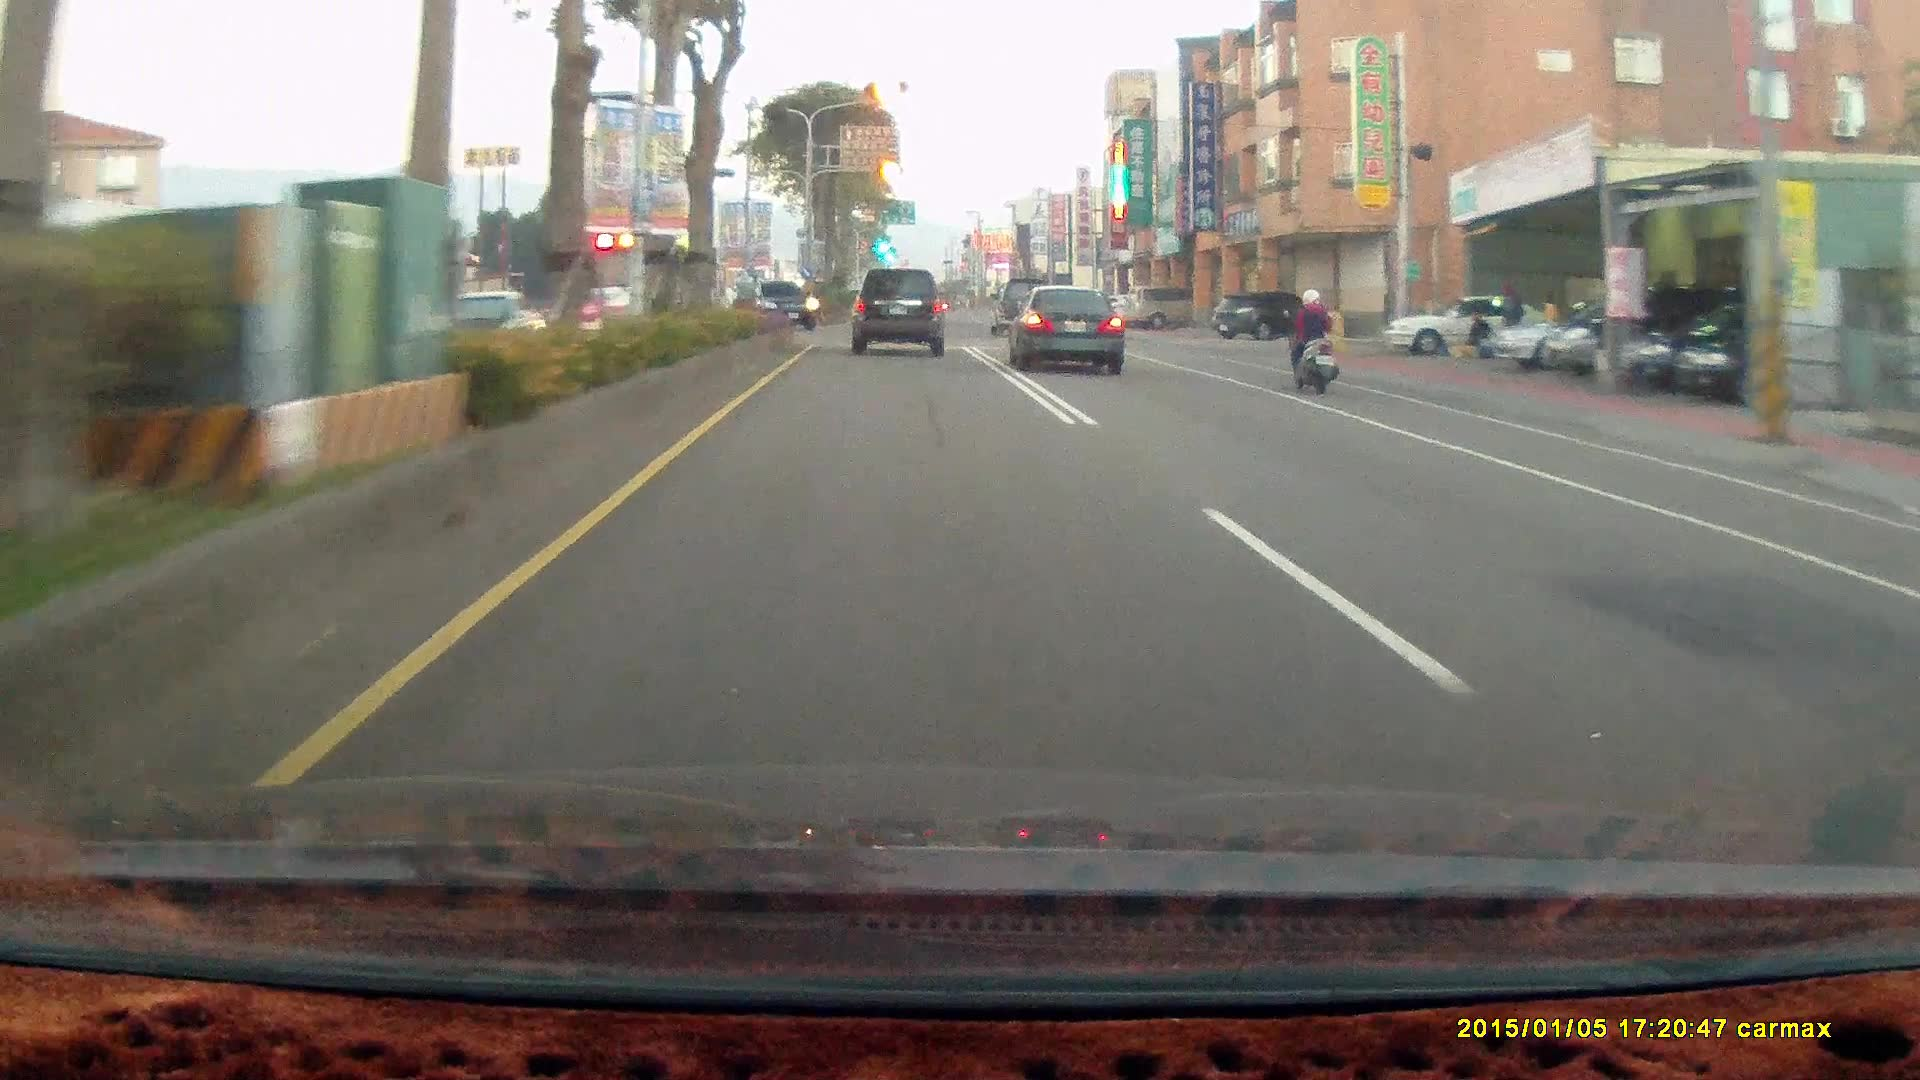pedestrian: (1499, 281, 1522, 355), (1465, 311, 1492, 360)
rider: (1273, 275, 1350, 405), (1281, 287, 1339, 394)
vehicle: (1682, 303, 1894, 407), (1618, 306, 1836, 397), (1543, 288, 1722, 377), (568, 229, 713, 339), (1493, 298, 1680, 372), (1377, 290, 1560, 364), (1018, 293, 1134, 390), (1382, 292, 1554, 357), (1003, 282, 1123, 372), (418, 288, 547, 365), (850, 275, 949, 365), (849, 270, 944, 356), (1214, 292, 1335, 347), (1207, 293, 1324, 343), (1121, 284, 1210, 332), (743, 280, 822, 334), (743, 280, 818, 330), (987, 280, 1052, 336)
